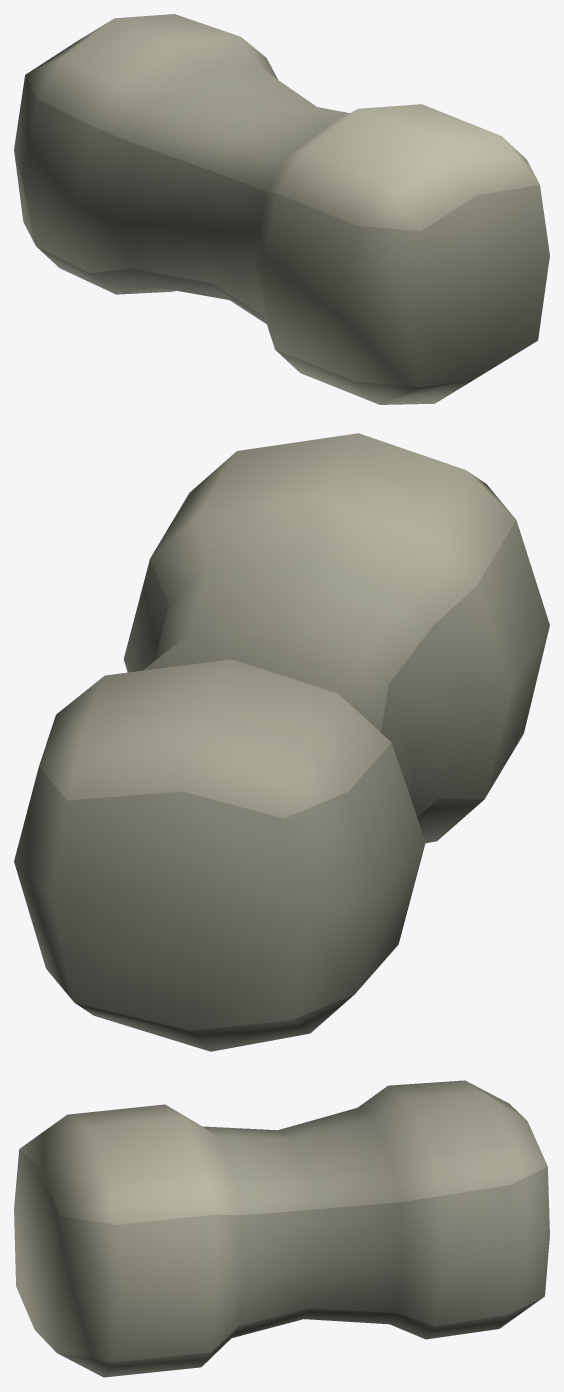
File: deco_bone_3.fbx
3 renders of one model, top to bottom at view 1: azimuth 30°, elevation 25°; view 2: azimuth 150°, elevation 25°; view 3: azimuth 270°, elevation 25°, orthographic. The views are drawn at different scales.
Parts seen in each view (by area): view 1: deco_bone_3; view 2: deco_bone_3; view 3: deco_bone_3.
Part boxes in pixels (x1,y1,x2,y2): deco_bone_3: (14, 14, 549, 404); deco_bone_3: (14, 433, 549, 1051); deco_bone_3: (14, 1080, 549, 1377).
Bounding box in the file's own units: 28.15 × 20.81 × 42.78.
